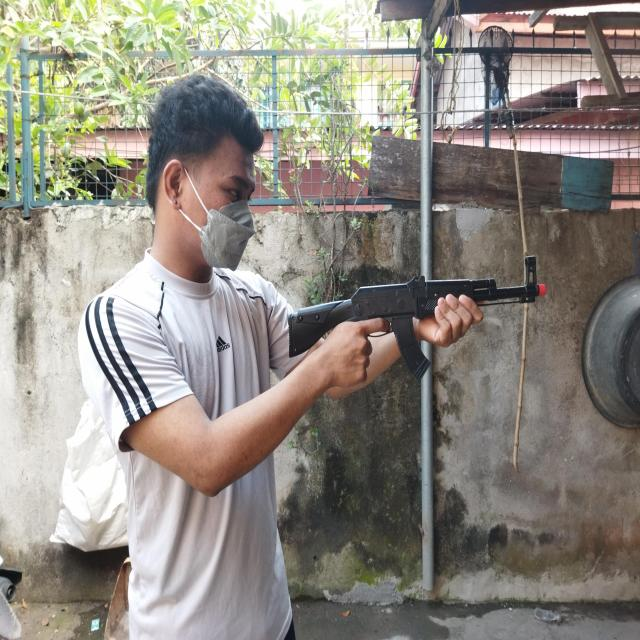rifle: (286, 247, 556, 383)
